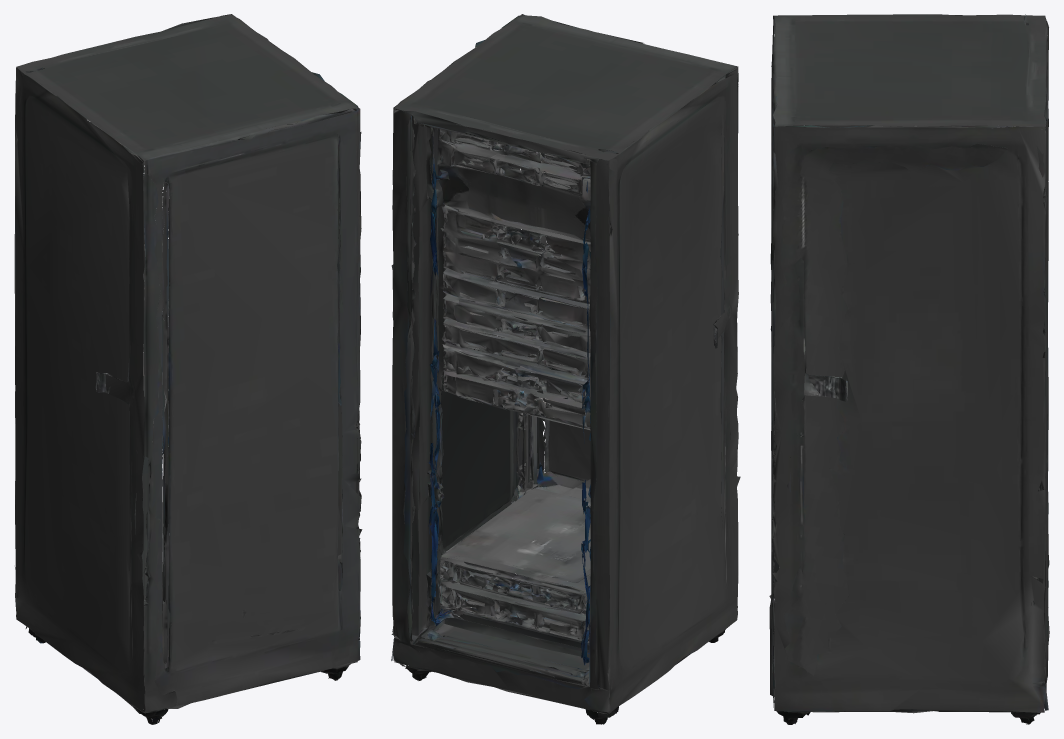
Rendered from rack.glb.
3 renders of one model, left to right at view 1: azimuth 30°, elevation 25°; view 2: azimuth 150°, elevation 25°; view 3: azimuth 270°, elevation 25°, orthographic. The views are drawn at different scales.
Parts seen in each view (by area): view 1: Mesh_0; view 2: Mesh_0; view 3: Mesh_0.
Part boxes in pixels (x1,y1,x2,y2): Mesh_0: [14, 14, 362, 724]; Mesh_0: [391, 14, 740, 724]; Mesh_0: [769, 14, 1049, 724].
Bounding box in the file's own units: 0.4451 × 1 × 0.4179.
Materials: 1 (1 with a texture image).
